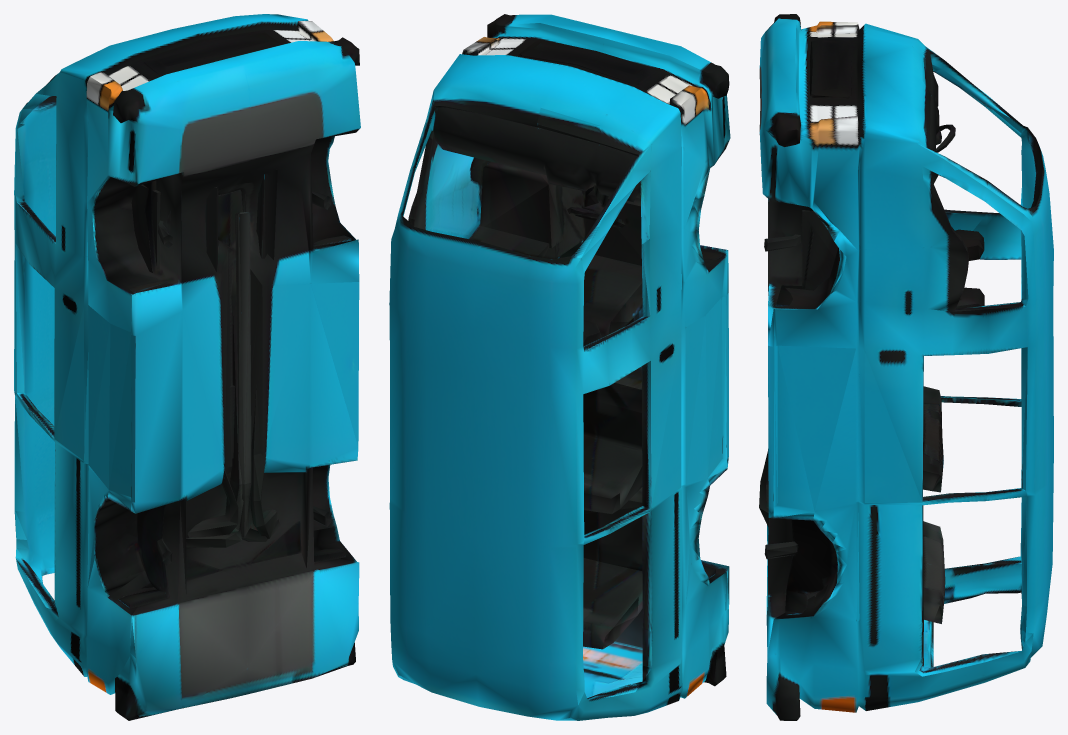
The model's file is taxi2_production.fbx.
The picture shows the model from 3 angles, left to right: view 1: azimuth 30°, elevation 25°; view 2: azimuth 150°, elevation 25°; view 3: azimuth 270°, elevation 25°; orthographic projection. The views are drawn at different scales.
Visible parts, largest first — view 1: mesh_node; view 2: mesh_node; view 3: mesh_node.
Part boxes in pixels (box(x1,y1,x2,y2)): mesh_node: box(14, 14, 360, 720); mesh_node: box(389, 14, 730, 720); mesh_node: box(759, 14, 1053, 720).
Size of the model in its own units: 1.9 by 4.8 by 2.1.
